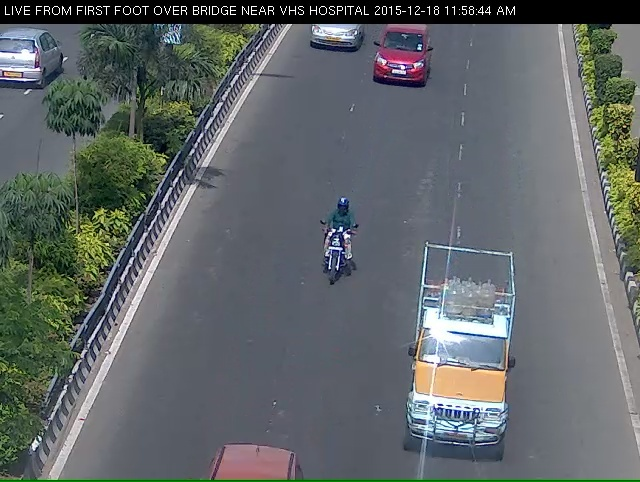Car: (400, 250, 513, 473), (372, 27, 425, 95), (298, 21, 362, 63)
Person: (314, 201, 347, 307)
